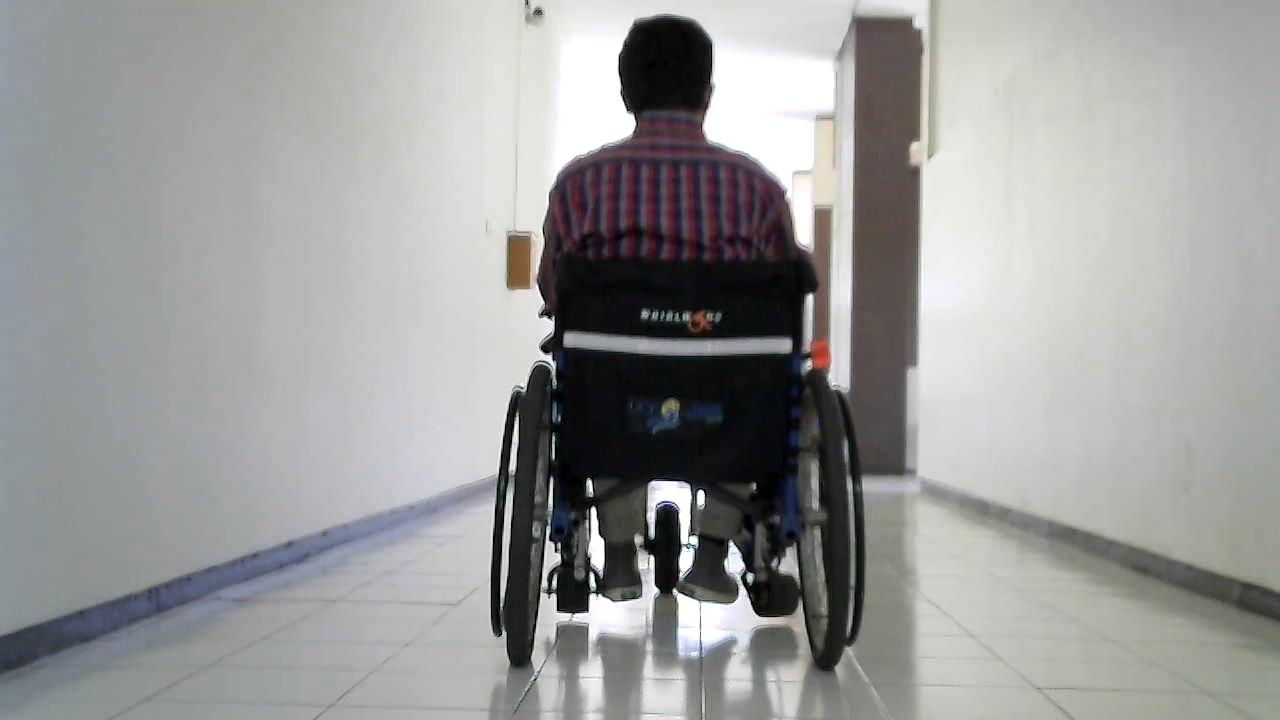person: (532, 13, 821, 625)
wheelchair: (457, 226, 894, 709)
